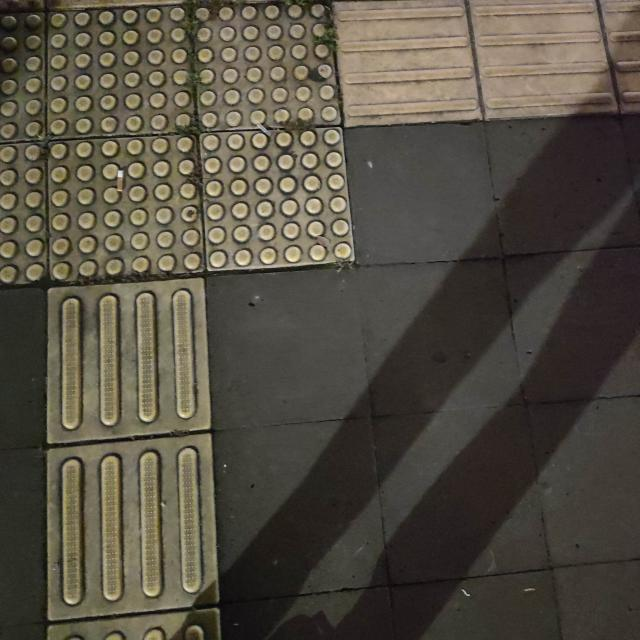kanan: (0, 0, 611, 400)
